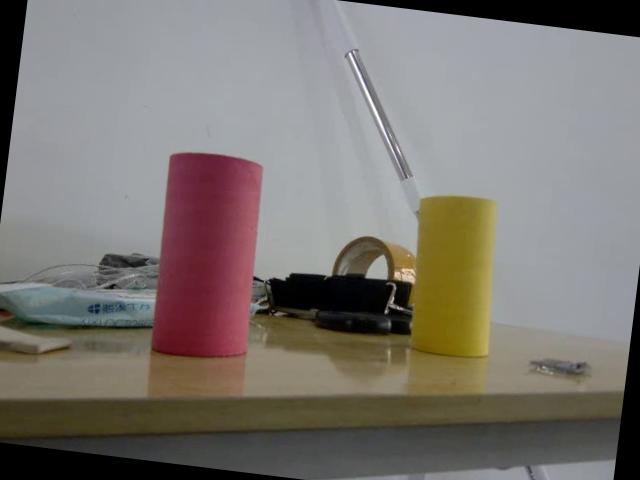red_cylinder: (142, 144, 275, 358)
yellow_cylinder: (398, 188, 502, 363)
